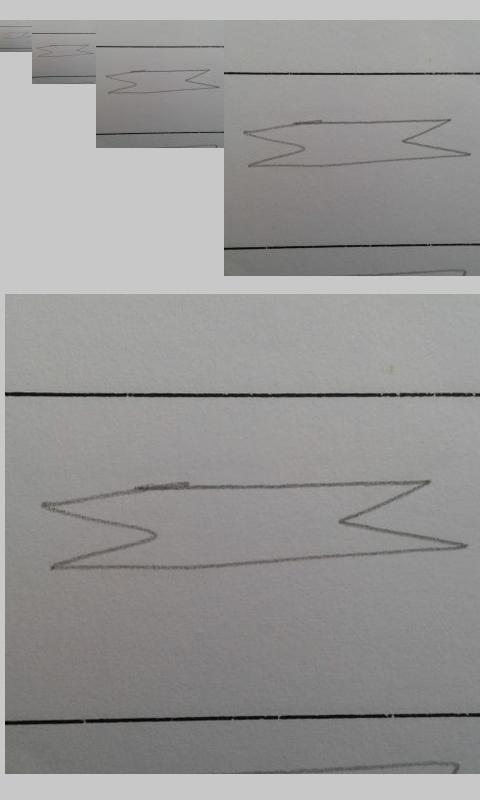edit_text: (39, 478, 468, 573), (242, 119, 470, 168), (106, 69, 219, 94), (38, 44, 93, 58), (2, 31, 31, 40)
